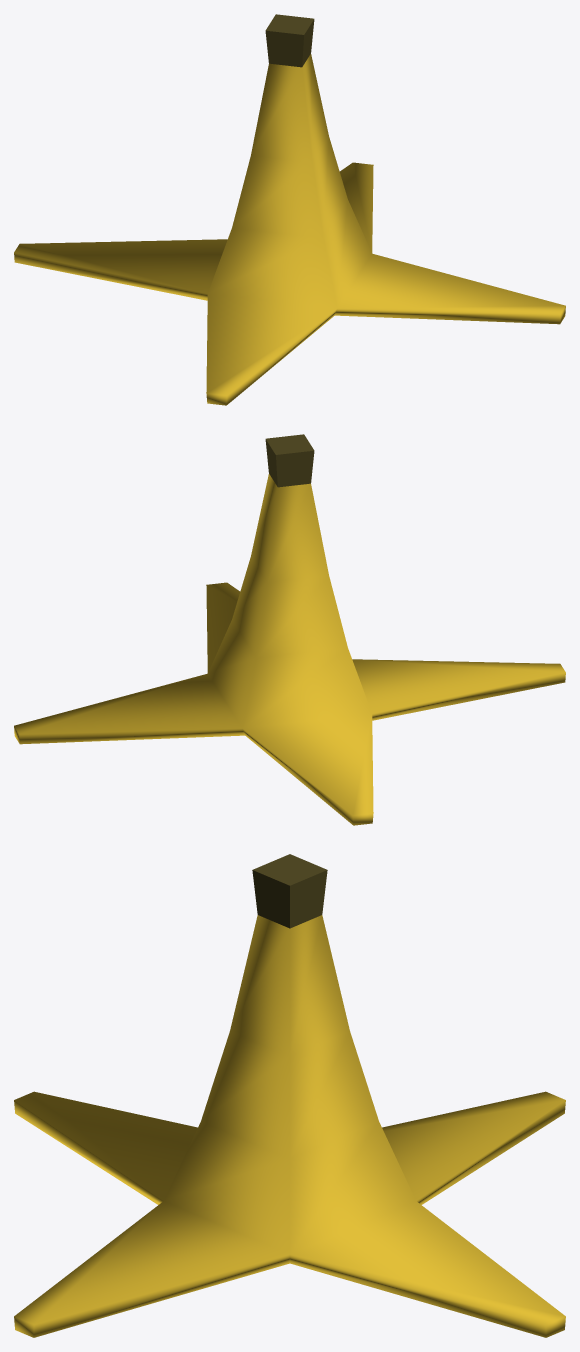
File: Trash_Banana.fbx
3 renders of one model, top to bottom at view 1: azimuth 30°, elevation 25°; view 2: azimuth 150°, elevation 25°; view 3: azimuth 270°, elevation 25°, orthographic. The views are drawn at different scales.
Parts seen in each view (by area): view 1: Banana; view 2: Banana; view 3: Banana.
Part boxes in pixels (x1,y1,x2,y2): Banana: [14, 14, 565, 405]; Banana: [14, 434, 565, 825]; Banana: [14, 854, 565, 1337].
Bounding box in the file's own units: 54.42 × 38.28 × 54.42.
